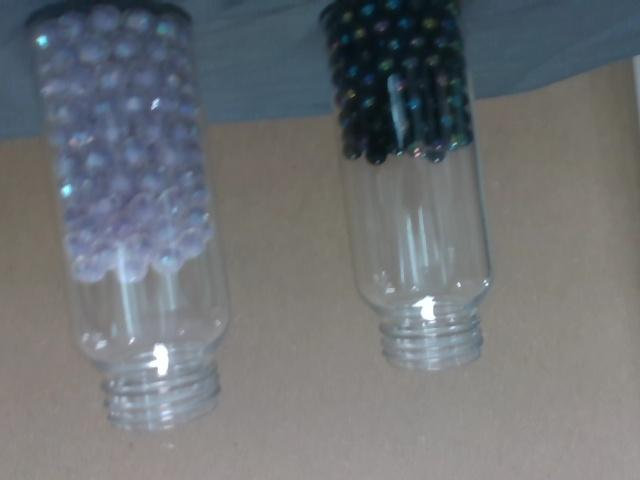black_bottle: (316, 0, 473, 168)
purple_bottle: (29, 0, 213, 283)
